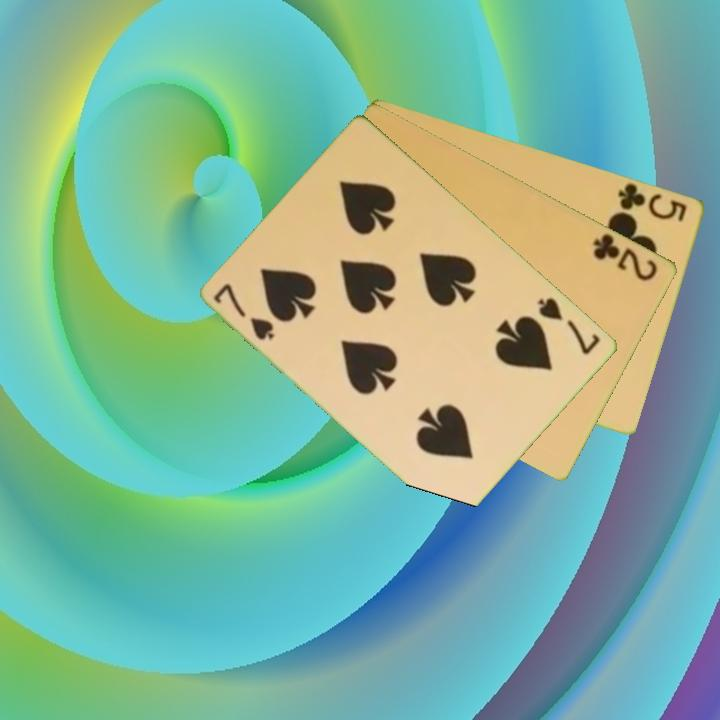2c: (590, 229, 661, 284)
5c: (614, 179, 690, 224)
7s: (534, 293, 604, 358), (210, 279, 279, 343)
